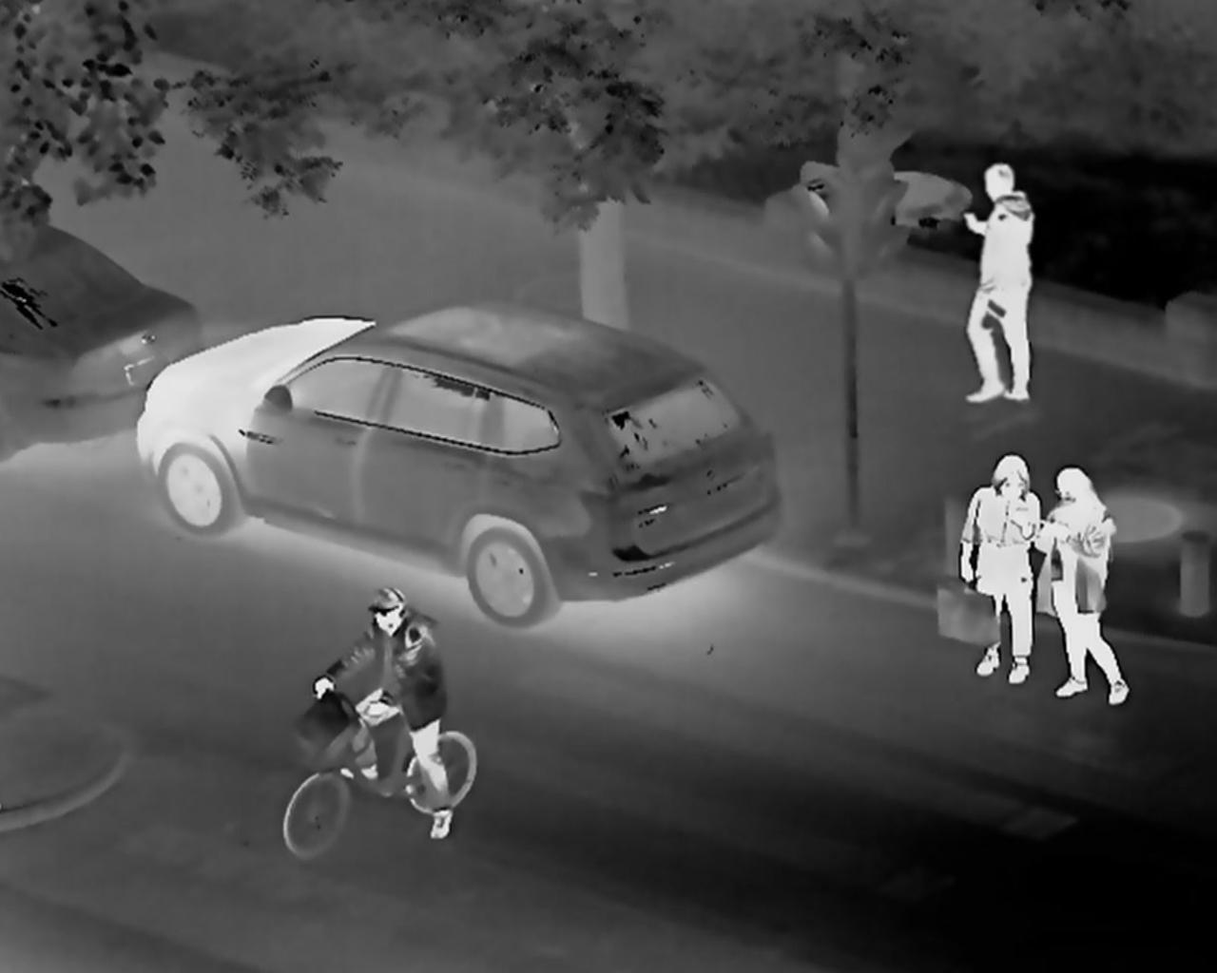person: (263, 570, 494, 838), (961, 152, 1060, 449), (963, 456, 1055, 701), (1062, 470, 1143, 722)
